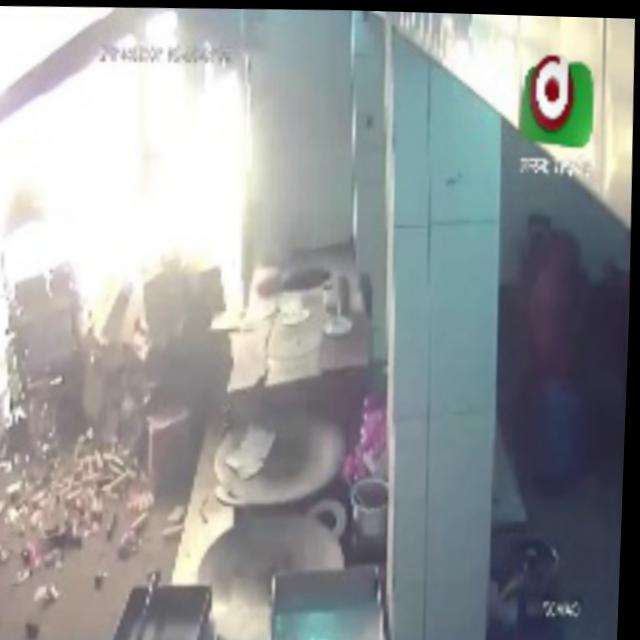fire: (0, 48, 258, 280)
